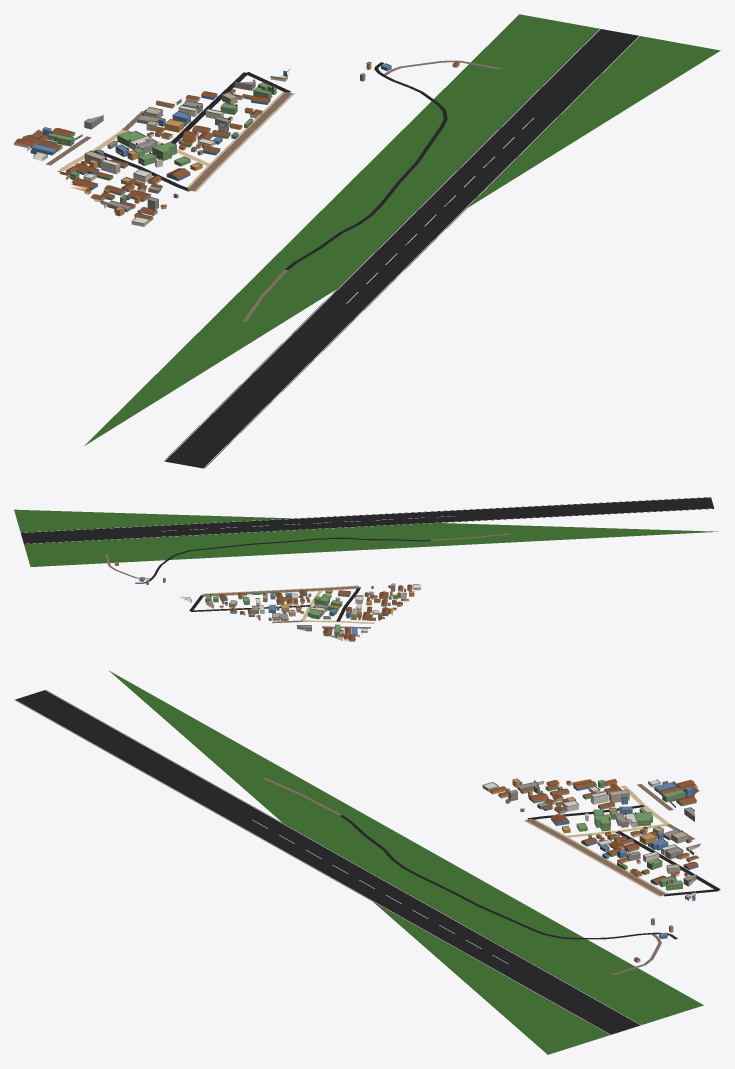
Rendered from zone_t1_2.glb.
3 views of the same model, one above another, from view 1: azimuth 30°, elevation 25°; view 2: azimuth 150°, elevation 25°; view 3: azimuth 270°, elevation 25° (orthographic). The views are drawn at different scales.
Visible parts, largest first — view 1: zone_herbe_aerodrome_t1_2, aeroport_runway_t1_2, toit_tole_t1_2, parapet_t1_2, bld_peinture_vert_t1_2-col, bld_peinture_blanc_t1_2-col, marquage_piste_t1_2, bld_beton_t1_2-col, bld_peinture_bleu_t1_2-col, route_service_bitume_t1_2, bld_peinture_ecaillee_t1_2-col, route_residential_bitume_t1_2 (+2 smaller); view 2: zone_herbe_aerodrome_t1_2, aeroport_runway_t1_2, toit_tole_t1_2, marquage_piste_t1_2, parapet_t1_2, bld_peinture_vert_t1_2-col, bld_beton_t1_2-col, route_service_bitume_t1_2, bld_peinture_blanc_t1_2-col, bld_peinture_bleu_t1_2-col, bld_peinture_ecaillee_t1_2-col, route_residential_bitume_t1_2 (+4 smaller); view 3: zone_herbe_aerodrome_t1_2, aeroport_runway_t1_2, toit_tole_t1_2, parapet_t1_2, marquage_piste_t1_2, bld_peinture_vert_t1_2-col, bld_beton_t1_2-col, bld_peinture_blanc_t1_2-col, bld_peinture_bleu_t1_2-col, route_service_bitume_t1_2, bld_peinture_ecaillee_t1_2-col, route_tertiary_paves_t1_2 (+1 smaller).
Boxes of the visible parts, x1=… form: zone_herbe_aerodrome_t1_2: x1=84, y1=14, x2=720, y2=445; aeroport_runway_t1_2: x1=164, y1=28, x2=640, y2=468; toit_tole_t1_2: x1=15, y1=61, x2=459, y2=219; parapet_t1_2: x1=30, y1=61, x2=391, y2=224; bld_peinture_vert_t1_2-col: x1=41, y1=83, x2=276, y2=202; bld_peinture_blanc_t1_2-col: x1=14, y1=76, x2=287, y2=226; marquage_piste_t1_2: x1=164, y1=29, x2=639, y2=468; bld_beton_t1_2-col: x1=19, y1=74, x2=365, y2=213; bld_peinture_bleu_t1_2-col: x1=30, y1=64, x2=391, y2=212; route_service_bitume_t1_2: x1=285, y1=62, x2=447, y2=269; bld_peinture_ecaillee_t1_2-col: x1=26, y1=63, x2=459, y2=215; route_residential_bitume_t1_2: x1=94, y1=72, x2=290, y2=191; zone_herbe_aerodrome_t1_2: x1=14, y1=509, x2=718, y2=566; aeroport_runway_t1_2: x1=21, y1=497, x2=714, y2=544; toit_tole_t1_2: x1=114, y1=563, x2=412, y2=639; marquage_piste_t1_2: x1=21, y1=497, x2=711, y2=543; parapet_t1_2: x1=139, y1=577, x2=420, y2=634; bld_peinture_vert_t1_2-col: x1=205, y1=592, x2=397, y2=637; bld_beton_t1_2-col: x1=163, y1=578, x2=406, y2=641; route_service_bitume_t1_2: x1=135, y1=537, x2=430, y2=583; bld_peinture_blanc_t1_2-col: x1=185, y1=584, x2=420, y2=641; bld_peinture_bleu_t1_2-col: x1=139, y1=577, x2=391, y2=636; bld_peinture_ecaillee_t1_2-col: x1=115, y1=564, x2=402, y2=640; route_residential_bitume_t1_2: x1=189, y1=587, x2=360, y2=621; zone_herbe_aerodrome_t1_2: x1=109, y1=671, x2=703, y2=1054; aeroport_runway_t1_2: x1=14, y1=690, x2=641, y2=1034; toit_tole_t1_2: x1=489, y1=779, x2=700, y2=960; parapet_t1_2: x1=482, y1=778, x2=696, y2=936; marquage_piste_t1_2: x1=14, y1=690, x2=641, y2=1034; bld_peinture_vert_t1_2-col: x1=533, y1=780, x2=696, y2=890; bld_beton_t1_2-col: x1=505, y1=782, x2=696, y2=925; bld_peinture_blanc_t1_2-col: x1=482, y1=779, x2=695, y2=900; bld_peinture_bleu_t1_2-col: x1=520, y1=781, x2=698, y2=938; route_service_bitume_t1_2: x1=340, y1=815, x2=677, y2=939; bld_peinture_ecaillee_t1_2-col: x1=498, y1=782, x2=699, y2=962; route_tertiary_paves_t1_2: x1=525, y1=818, x2=666, y2=895.
Size of the model in its own units: 1025 by 11 by 796.
